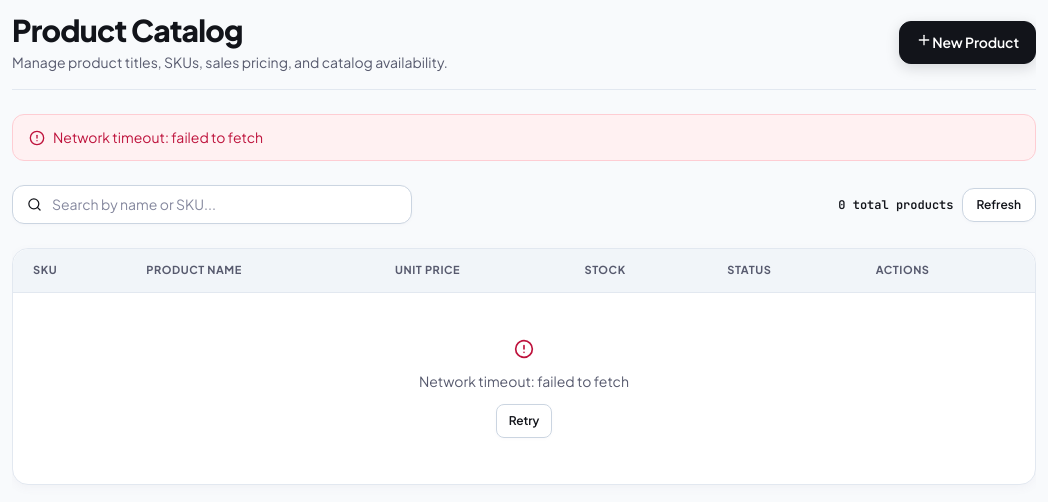
Test: Phase 3 Operations Frontend Components › Operations Layout, Loading States, and Error Recovery Regression Suite › ProductsPage handles error state with safe in-table retry button
# Trigger retry
Click the button "Retry": click(524, 421) [496,404,552,438]
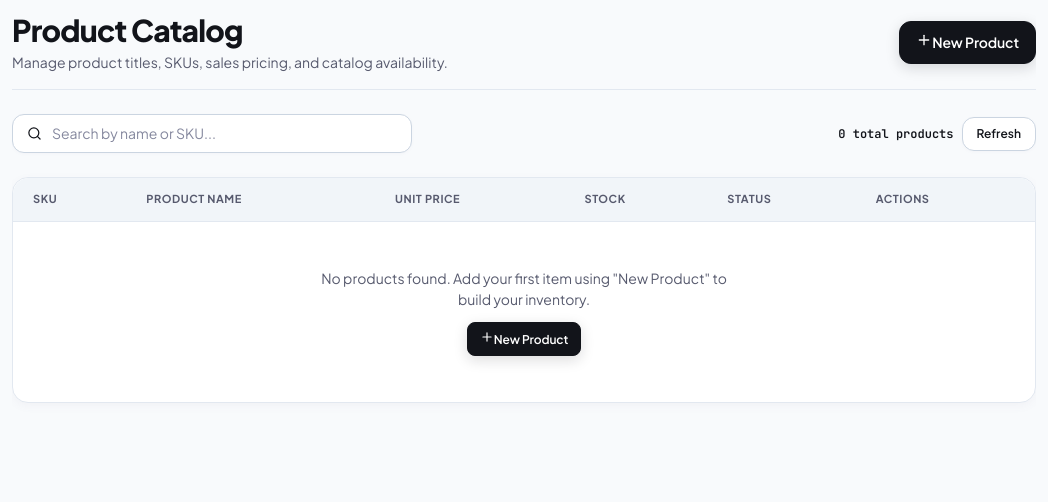
Expected: the text "No products found" is shown, [321,269,727,308]
